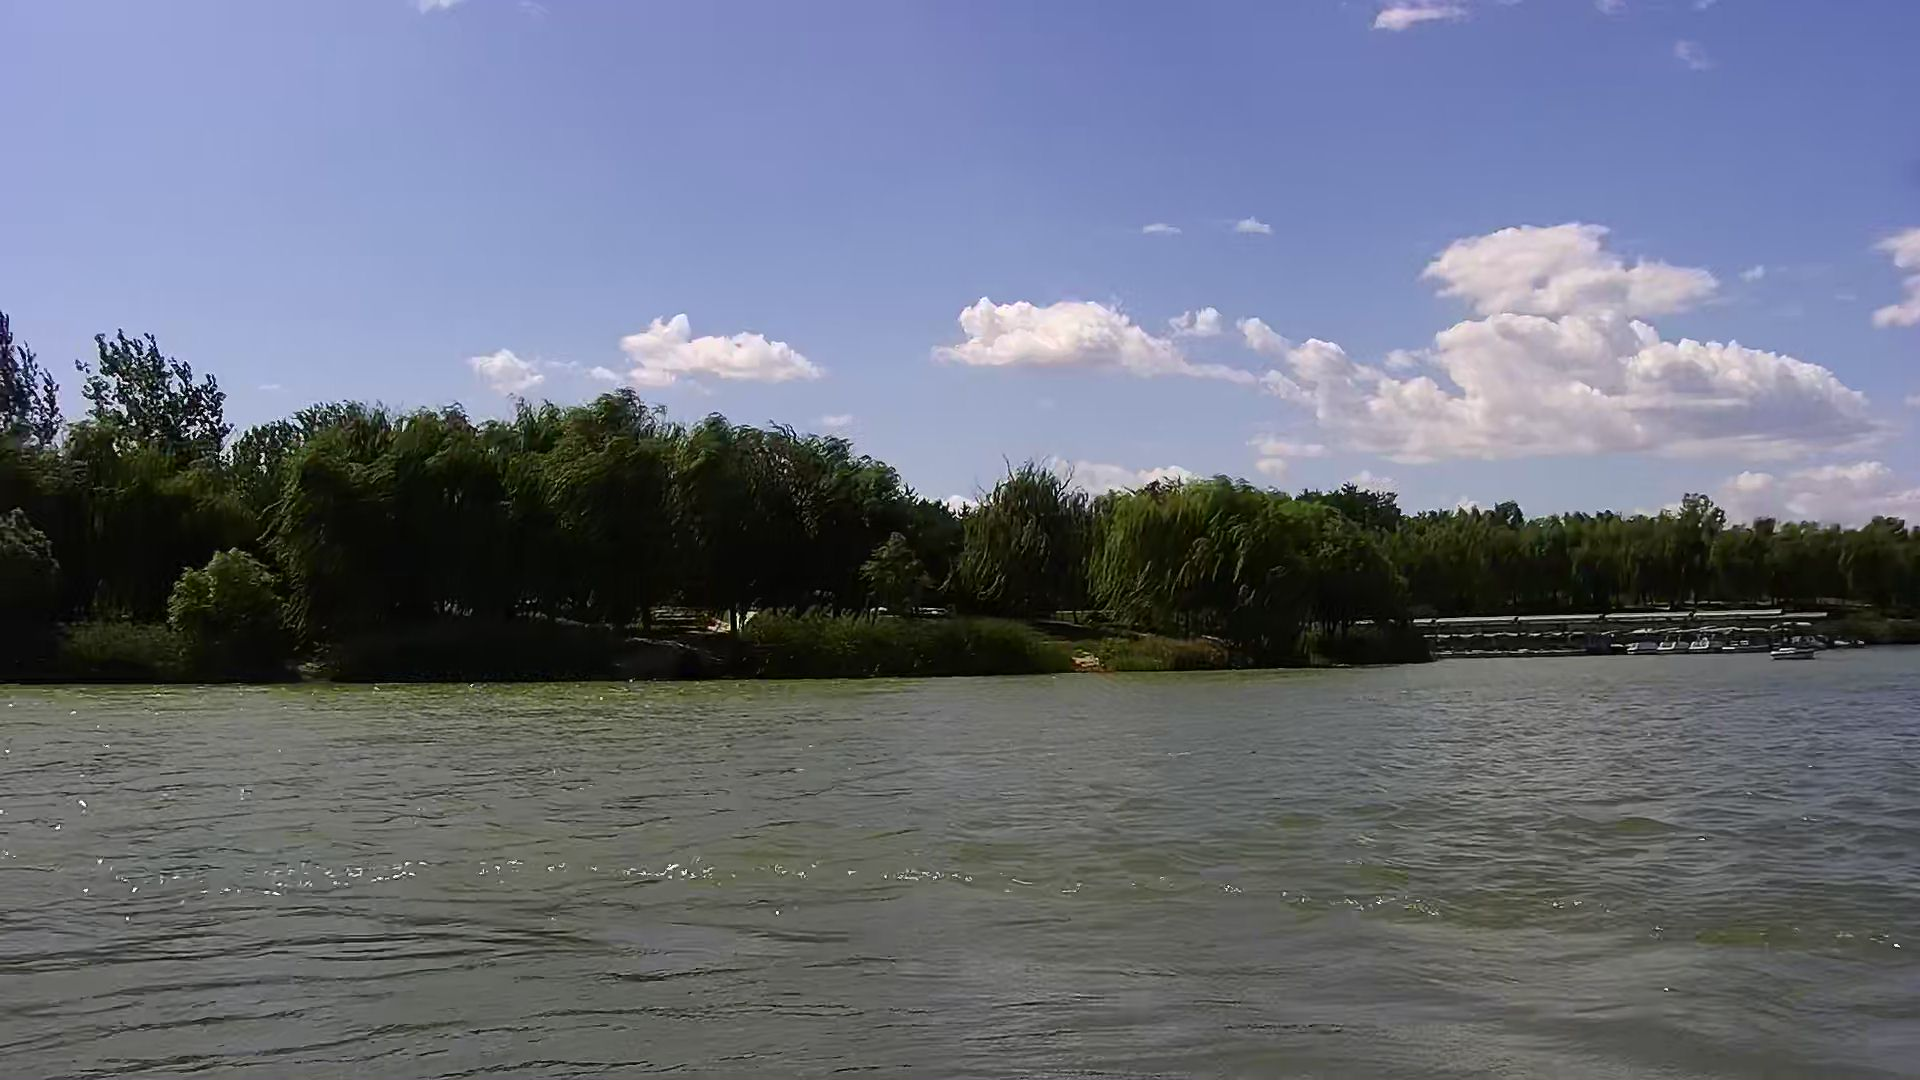boat: (1734, 622, 1775, 655), (1689, 626, 1727, 658), (1659, 628, 1691, 657), (1625, 632, 1656, 658), (1768, 646, 1816, 661)
harbor: (1433, 611, 1822, 655)
